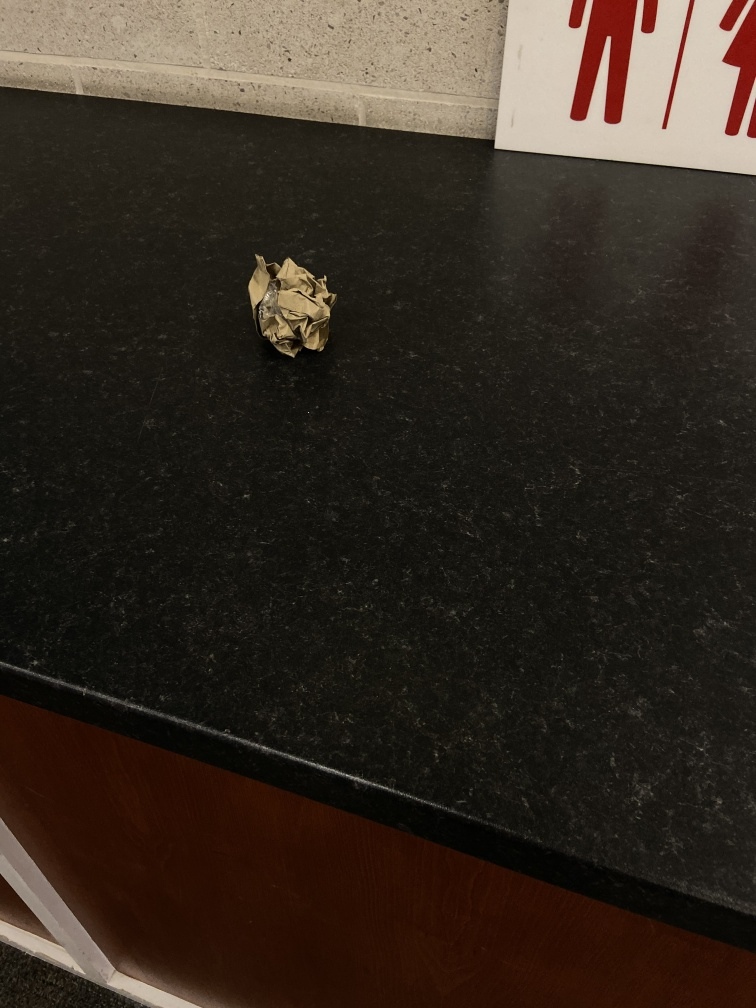paper_brown: (242, 249, 344, 366)
